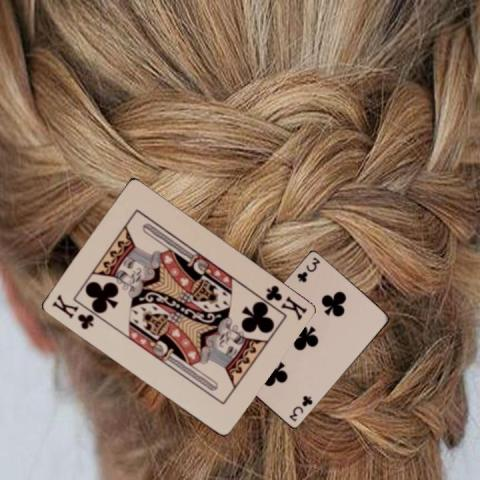3c: (286, 393, 314, 423), (294, 255, 321, 284)
Kc: (262, 282, 308, 322), (48, 292, 95, 331)
